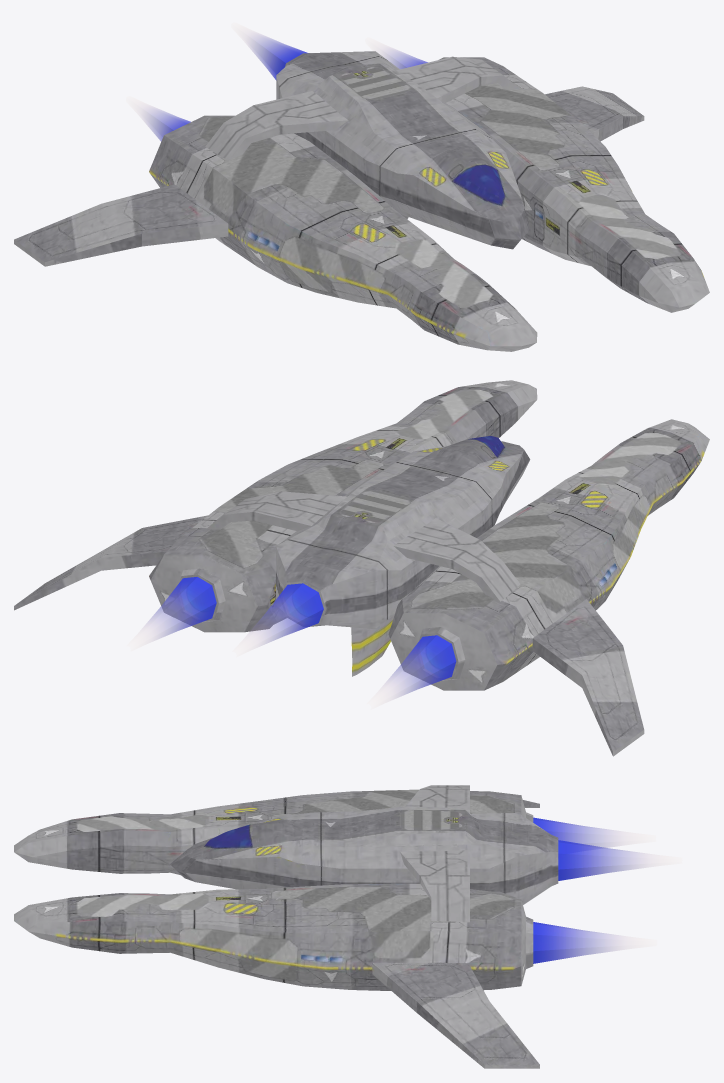
Rendered from llama.gltf.
3 views of the same model, one above another, from view 1: azimuth 30°, elevation 25°; view 2: azimuth 150°, elevation 25°; view 3: azimuth 270°, elevation 25° (orthographic). The views are drawn at different scales.
Visible parts, largest first — view 1: base_glow, glow; view 2: base_glow, glow; view 3: base_glow, glow.
Boxes of the visible parts, x1,y1,x2,y2 form: base_glow: [14, 51, 709, 351]; glow: [141, 32, 427, 141]; base_glow: [14, 380, 709, 756]; glow: [143, 577, 456, 699]; base_glow: [14, 785, 558, 1068]; glow: [533, 817, 648, 963].
Bounding box in the file's own units: 7.2 × 1.77 × 8.12.
2 materials, 2 textured.
